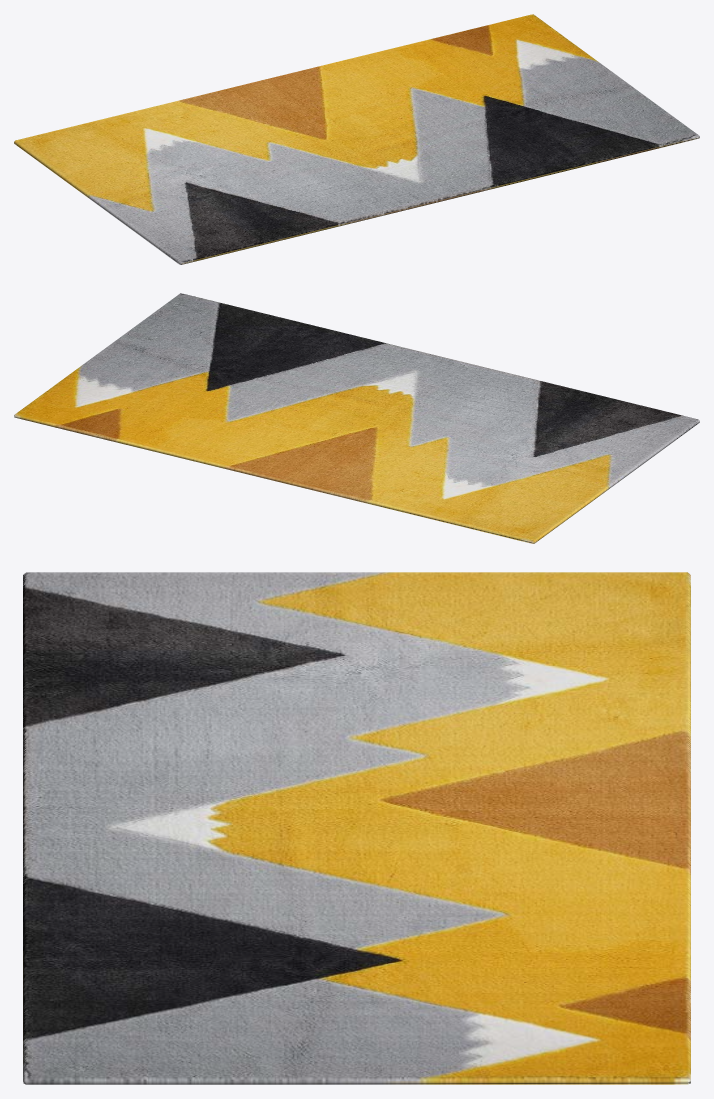
The picture shows the model from 3 angles, top to bottom: view 1: azimuth 30°, elevation 25°; view 2: azimuth 150°, elevation 25°; view 3: azimuth 270°, elevation 25°; orthographic projection. The views are drawn at different scales.
Parts seen in each view (by area): view 1: map.001; view 2: map.001; view 3: map.001.
Boxes of the visible parts, x1=… form: map.001: x1=14, y1=14, x2=699, y2=264; map.001: x1=14, y1=293, x2=699, y2=543; map.001: x1=23, y1=572, x2=690, y2=1084.
Bounding box in the file's own units: 1.8 × 0.00942 × 1.
1 material, 1 textured.
